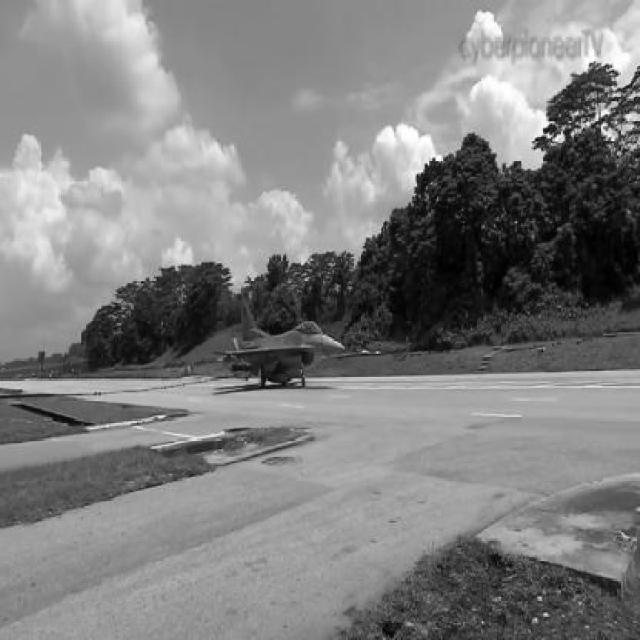Airplane: (215, 293, 347, 389)
